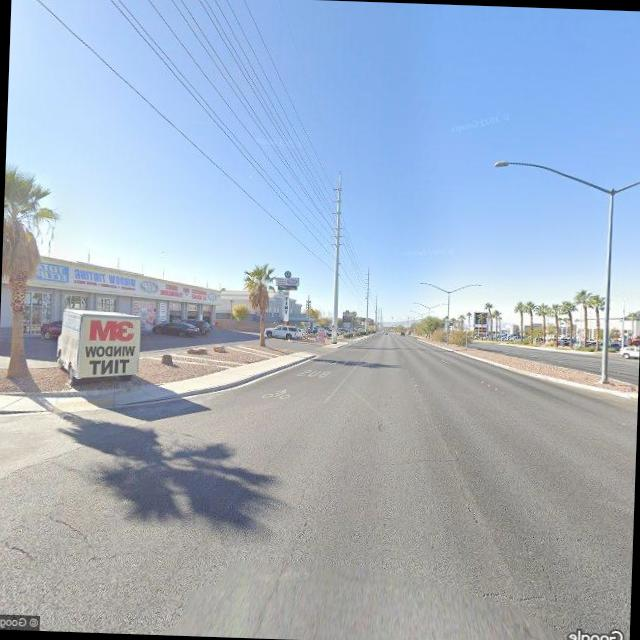crack: (444, 464, 560, 592)
